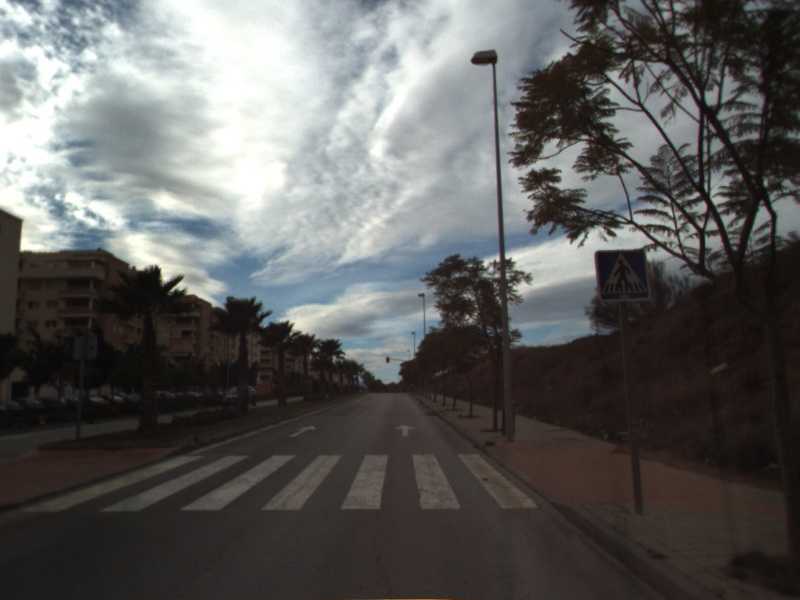STRAIGHT: (287, 423, 319, 439), (393, 422, 418, 438)
